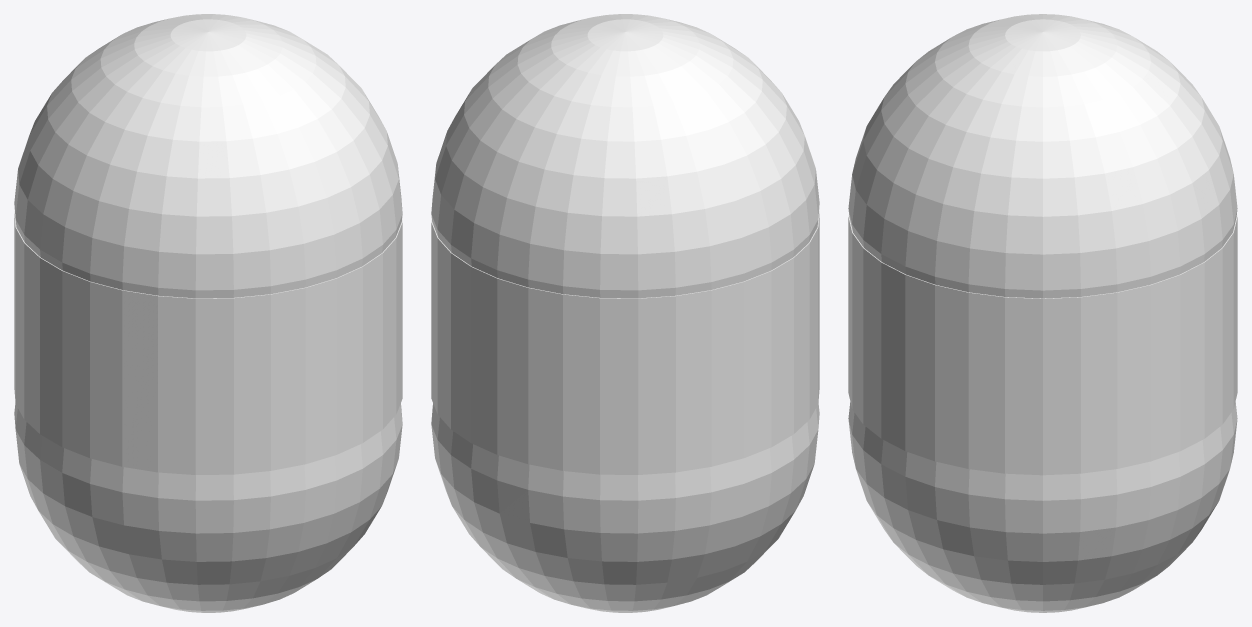
Rendered from player.obj.
3 views of the same model, side by side, from view 1: azimuth 30°, elevation 25°; view 2: azimuth 150°, elevation 25°; view 3: azimuth 270°, elevation 25° (orthographic).
Visible parts, largest first — view 1: 球; view 2: 球; view 3: 球.
Boxes of the visible parts, <box> form: 球: <box>14,14,402,612</box>; 球: <box>431,14,819,612</box>; 球: <box>848,14,1237,612</box>.
Bounding box in the file's own units: 2 × 3.19 × 2.
1 material, 1 textured.
